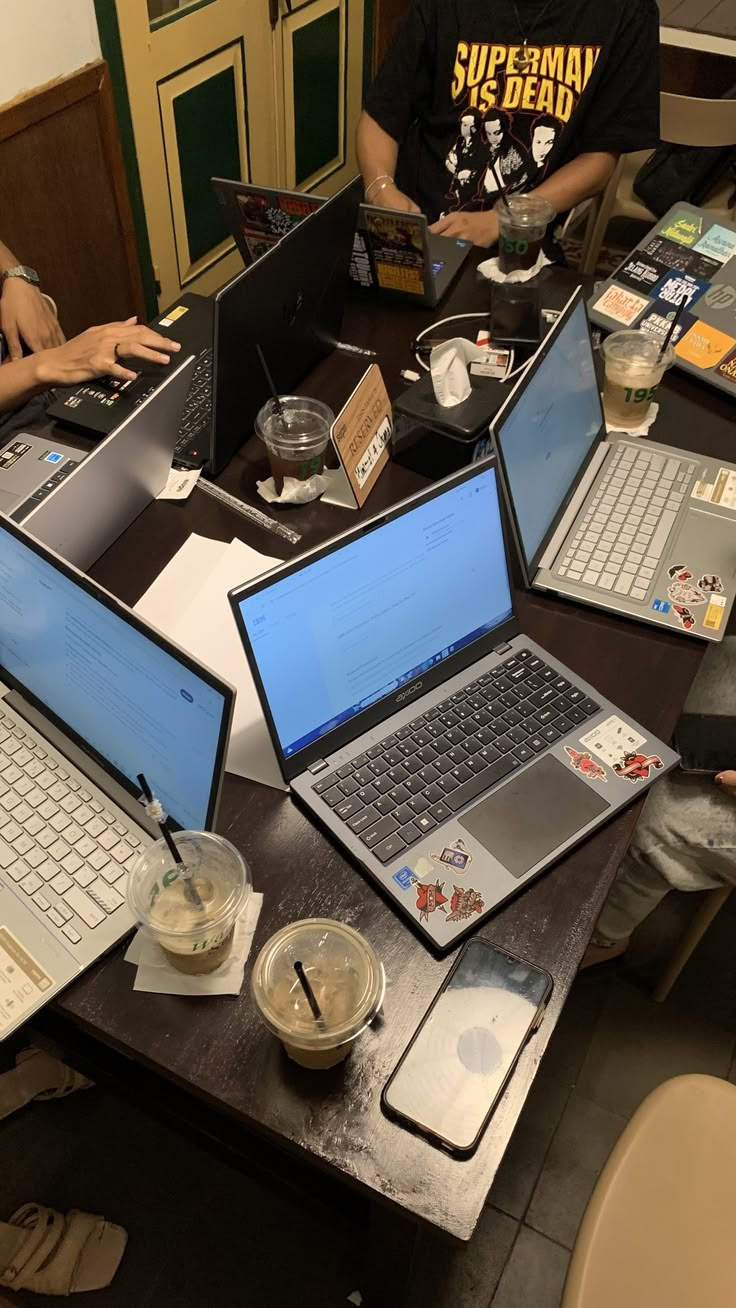cell phone: (380, 936, 554, 1156)
laptop: (226, 452, 682, 955), (1, 509, 237, 1044), (45, 173, 364, 477), (487, 283, 735, 644), (1, 355, 197, 574), (210, 174, 473, 310), (585, 200, 735, 398)
